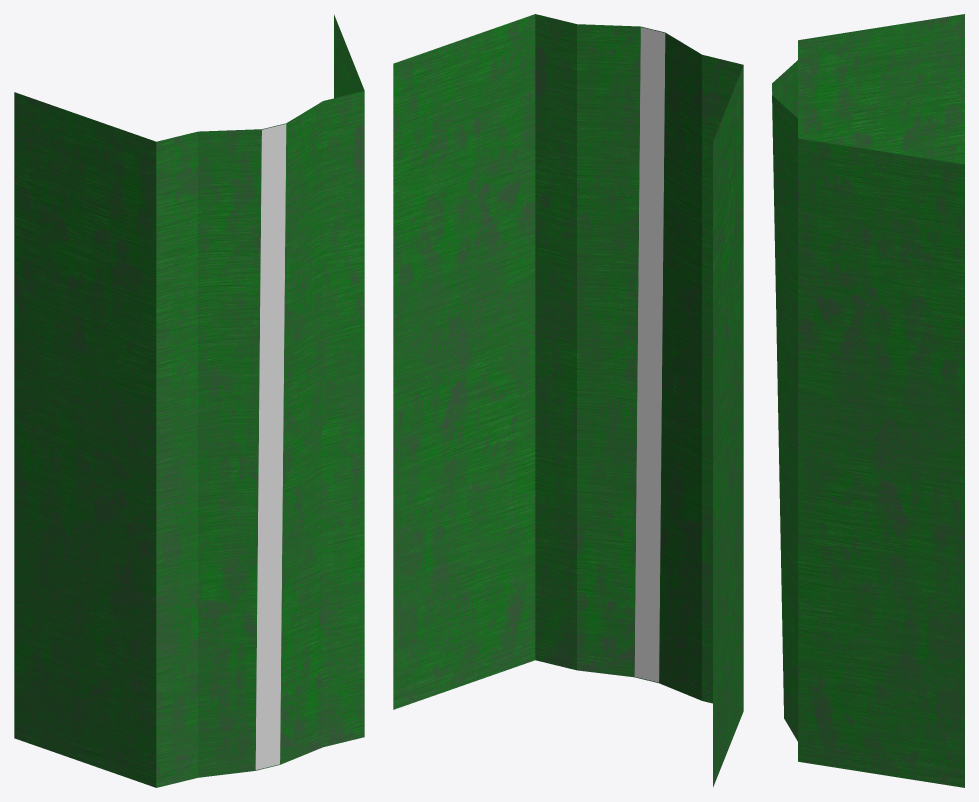
File: CubeBaseFrontColumn4Lower.fbx
3 views of the same model, side by side, from view 1: azimuth 30°, elevation 25°; view 2: azimuth 150°, elevation 25°; view 3: azimuth 270°, elevation 25° (orthographic). The views are drawn at different scales.
Parts seen in each view (by area): view 1: pCube1; view 2: pCube1; view 3: pCube1.
Boxes of the visible parts, x1=… form: pCube1: x1=14, y1=14, x2=364, y2=787; pCube1: x1=393, y1=14, x2=743, y2=787; pCube1: x1=772, y1=14, x2=964, y2=787.
Bounding box in the file's own units: 0.5178 × 1 × 0.2805.
Materials: 1 (1 with a texture image).
